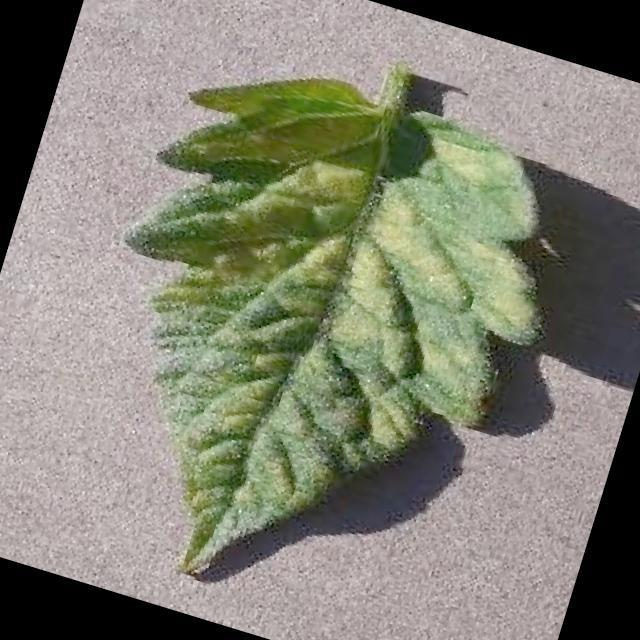Tomato mold leaf: (31, 38, 596, 640)
